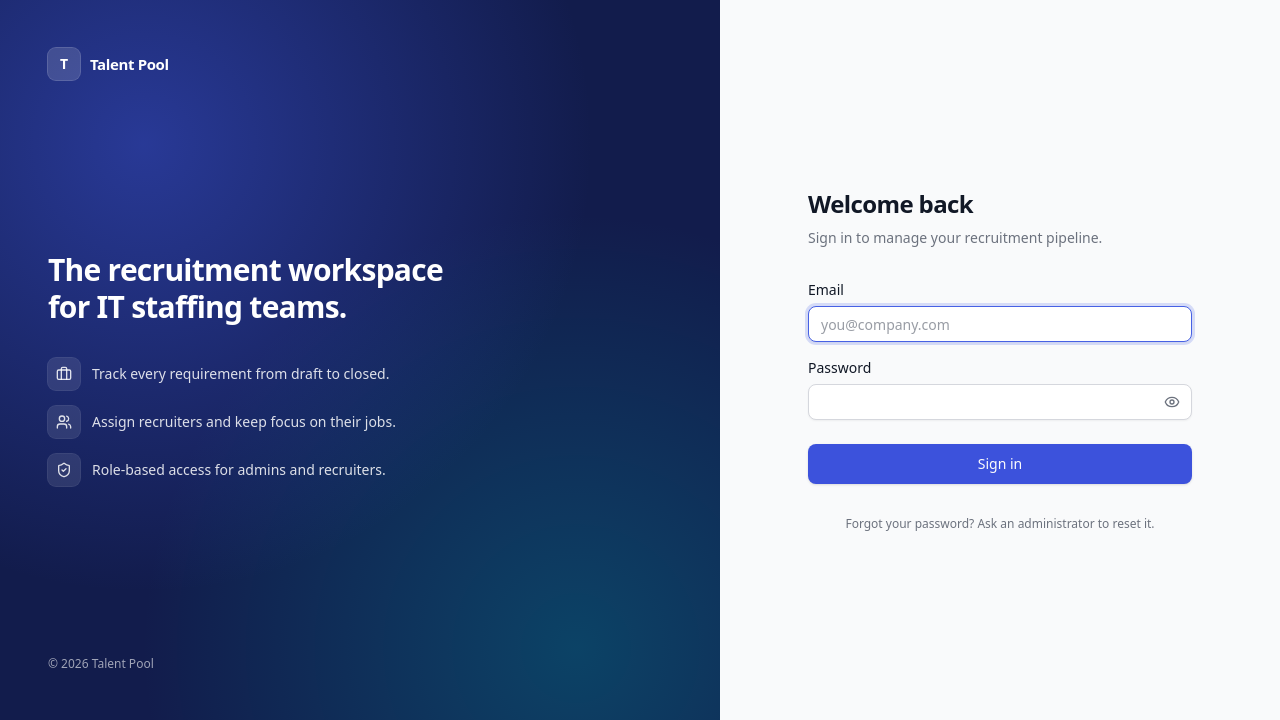
Test: LoginPage › shows validation errors and does not submit invalid email
In the field labelled "Email": (1000, 324) [808,306,1192,342], type "invalid"
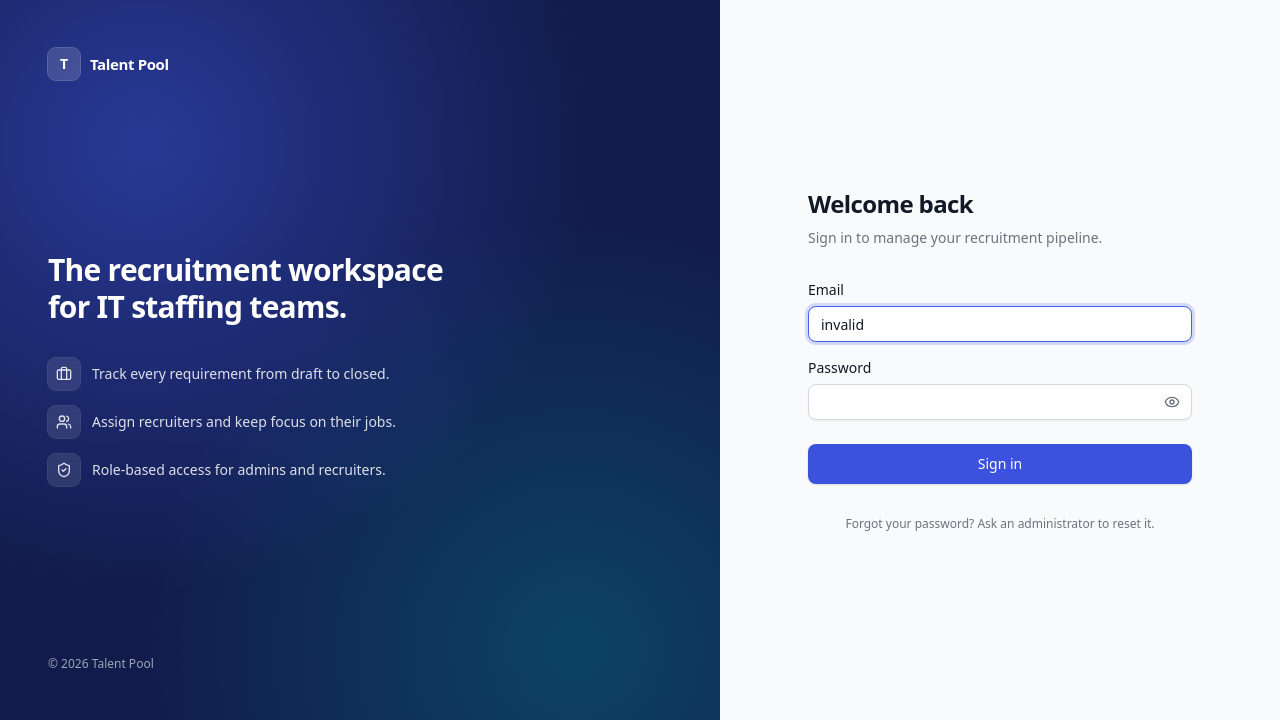
In the password field labelled "Password": (1000, 402) [808,384,1192,420], type "secret"
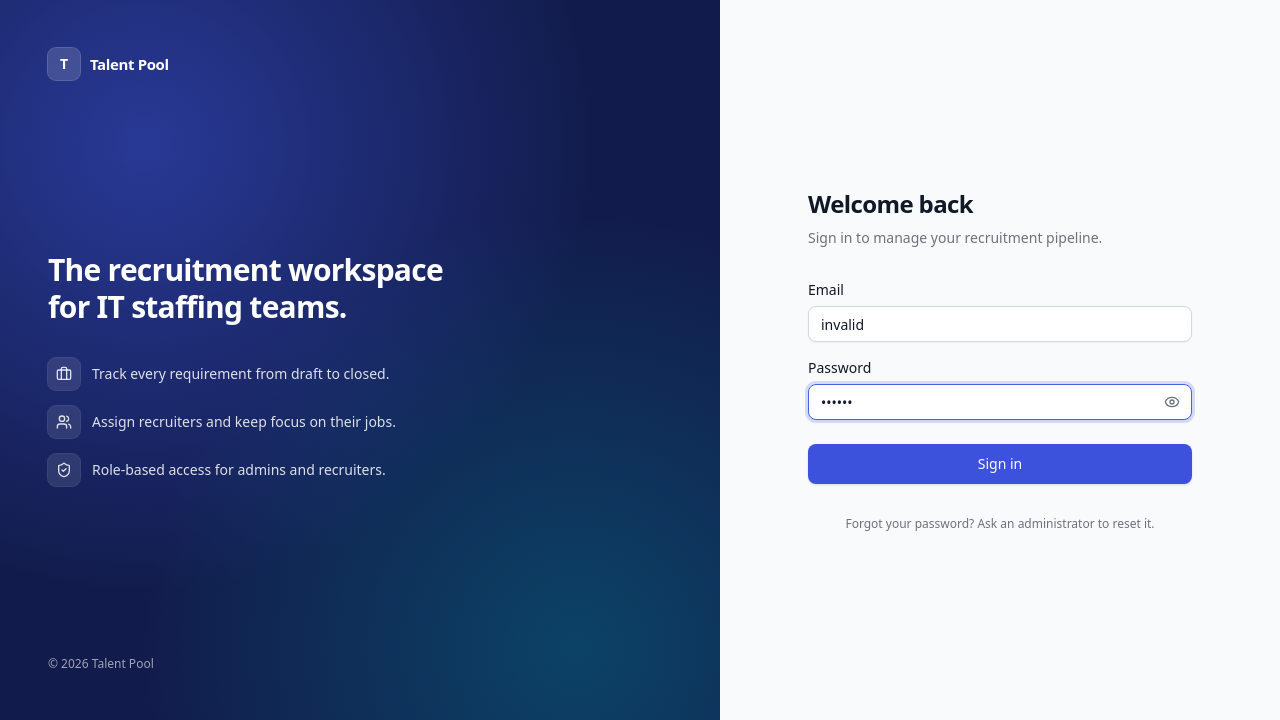
Click the button "Sign in": (1000, 464) [808,444,1192,484]
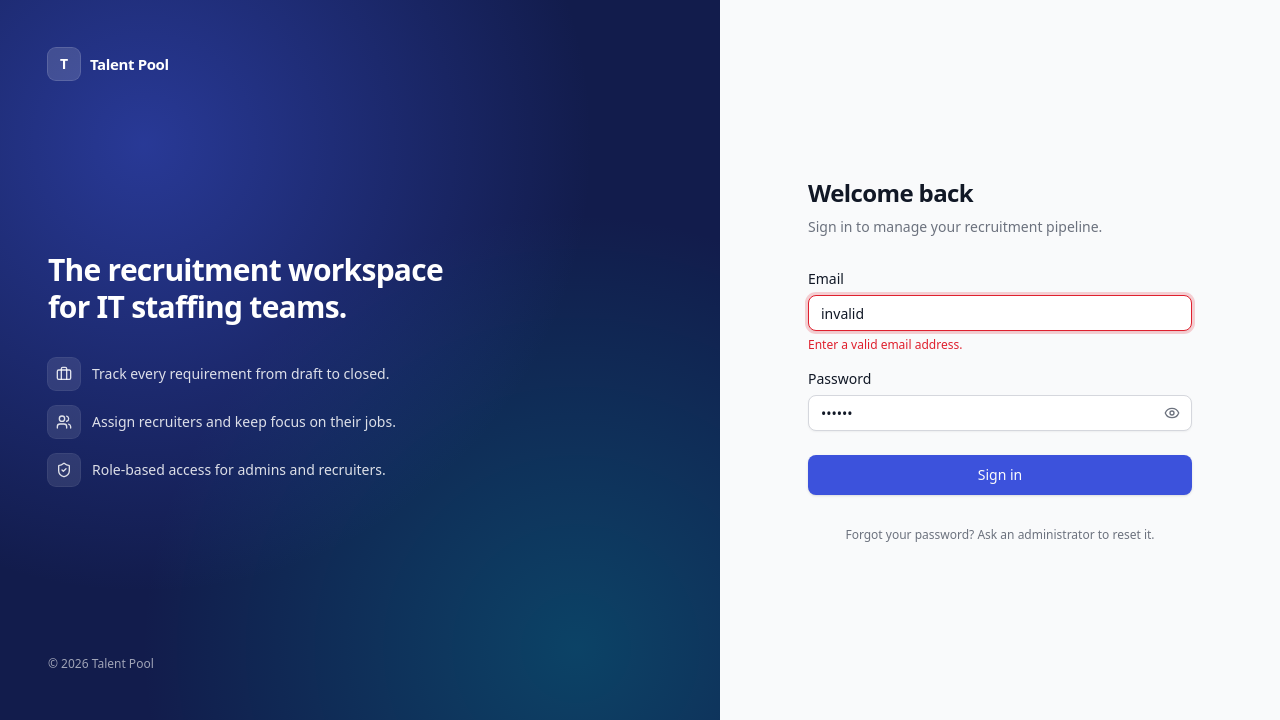
Check: the text "Enter a valid email address." is shown, box [808,336,962,353]
